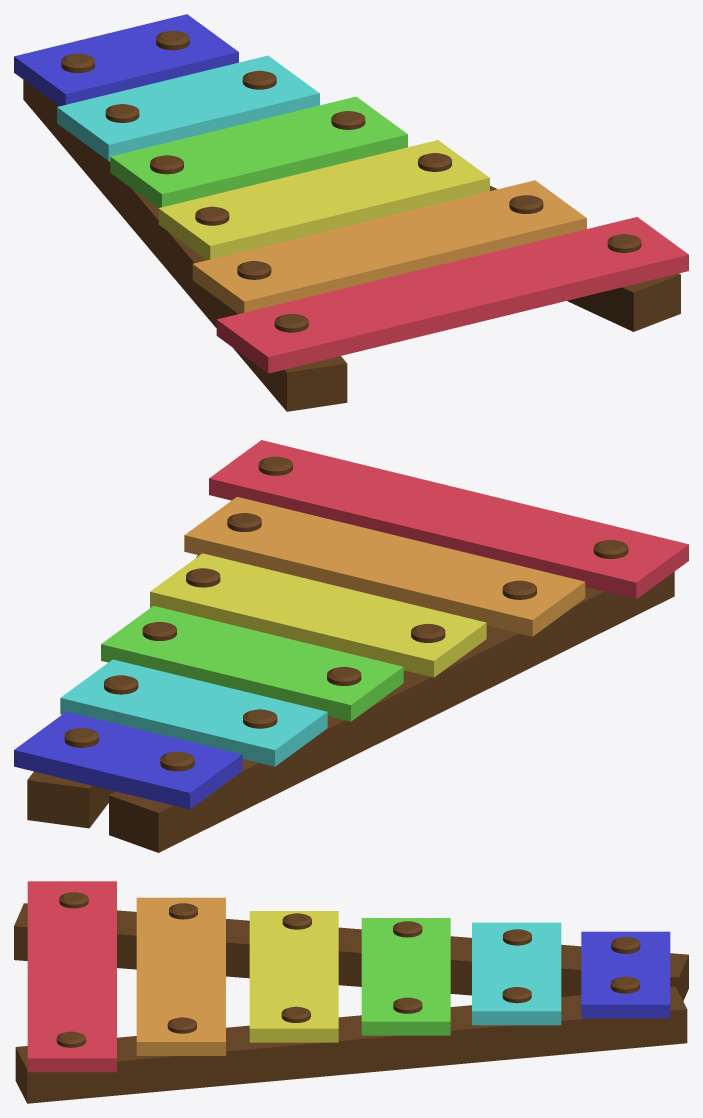
Rendered from xylophone.fbx.
The picture shows the model from 3 angles, top to bottom: view 1: azimuth 30°, elevation 25°; view 2: azimuth 150°, elevation 25°; view 3: azimuth 270°, elevation 25°; orthographic projection. The views are drawn at different scales.
Parts seen in each view (by area): view 1: one, two, three, four, sujpport, five, six, buttons?; view 2: one, sujpport, two, three, four, five, six, buttons?; view 3: sujpport, one, two, three, four, five, six, buttons?.
Boxes of the visible parts, x1,y1,x2,y2 form: one: [216, 217, 688, 373]; two: [192, 180, 586, 313]; three: [158, 140, 489, 259]; four: [110, 96, 407, 207]; sujpport: [23, 80, 680, 411]; five: [57, 55, 319, 160]; six: [14, 14, 238, 106]; buttons?: [61, 30, 641, 332]; one: [209, 440, 688, 599]; sujpport: [27, 555, 674, 852]; two: [184, 497, 585, 636]; three: [150, 553, 486, 677]; four: [101, 606, 403, 721]; five: [60, 659, 327, 766]; six: [14, 711, 242, 809]; buttons?: [64, 456, 628, 771]; sujpport: [14, 903, 688, 1103]; one: [27, 881, 116, 1072]; two: [136, 897, 225, 1055]; three: [249, 911, 338, 1042]; four: [361, 918, 450, 1035]; five: [472, 922, 561, 1025]; six: [581, 931, 670, 1018]; buttons?: [56, 892, 640, 1047].
Size of the model in its own units: 126 by 18.16 by 203.
